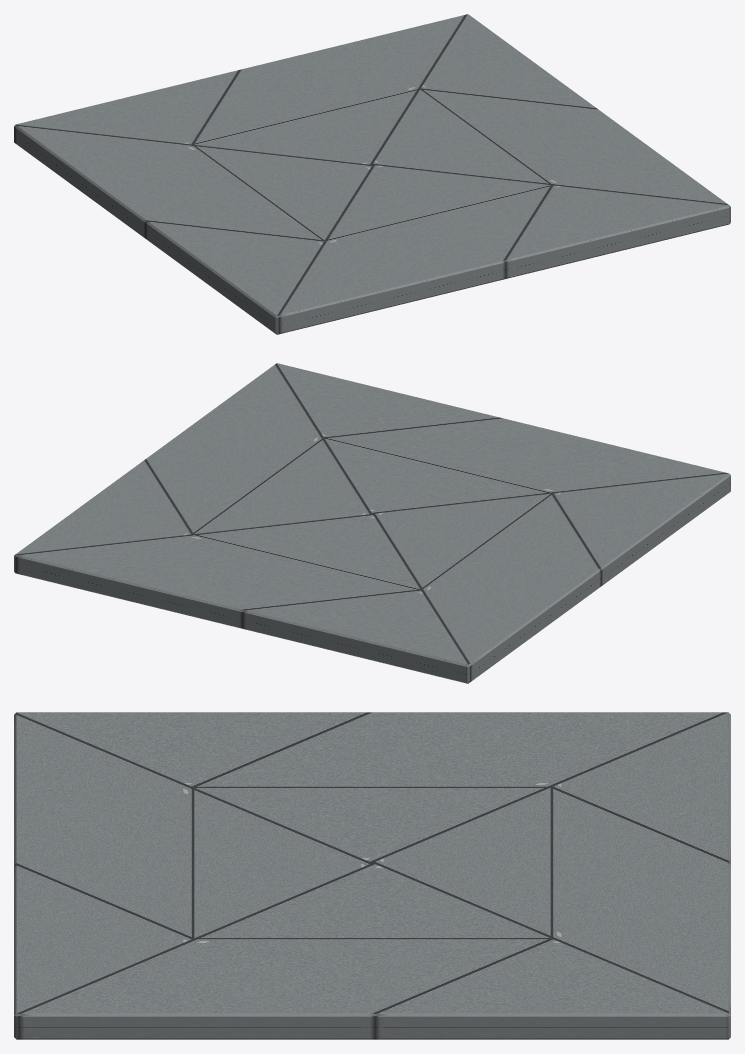
File: japanese-school-and-city-street-ceiling-slab-3m-blank-cc45ac02__30054.glb
3 renders of one model, top to bottom at view 1: azimuth 30°, elevation 25°; view 2: azimuth 150°, elevation 25°; view 3: azimuth 270°, elevation 25°, orthographic. The views are drawn at different scales.
Parts seen in each view (by area): view 1: ceiling-slab-3m-blank; view 2: ceiling-slab-3m-blank; view 3: ceiling-slab-3m-blank.
Boxes of the visible parts, x1=… form: ceiling-slab-3m-blank: x1=14, y1=14, x2=730, y2=334; ceiling-slab-3m-blank: x1=14, y1=363, x2=730, y2=683; ceiling-slab-3m-blank: x1=14, y1=712, x2=730, y2=1039.
Size of the model in its own units: 3 by 0.1201 by 3.
Materials: 2 (2 with a texture image).
